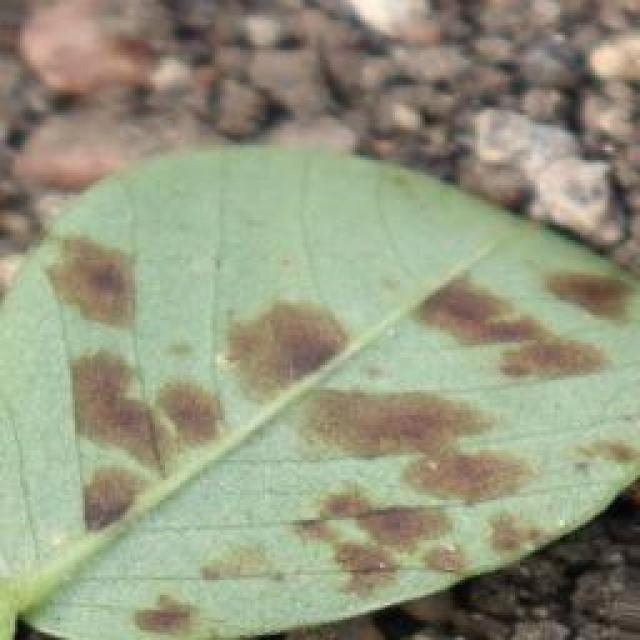Whitefly: (30, 161, 640, 617)
